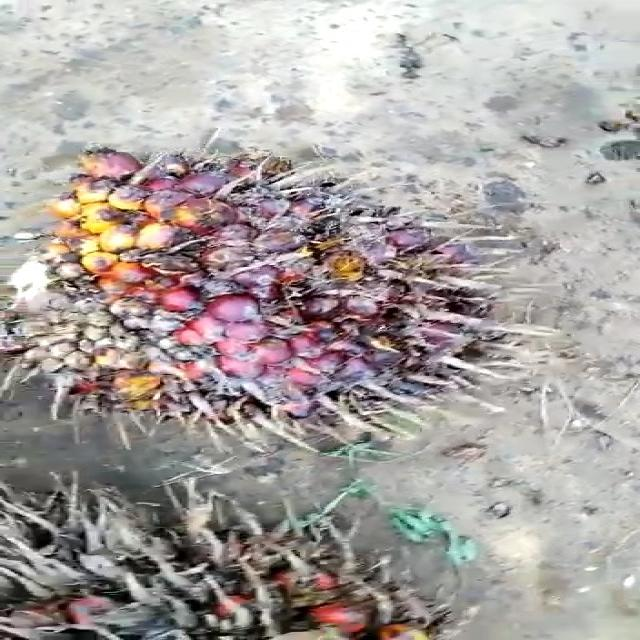palm oil: (27, 145, 563, 439)
